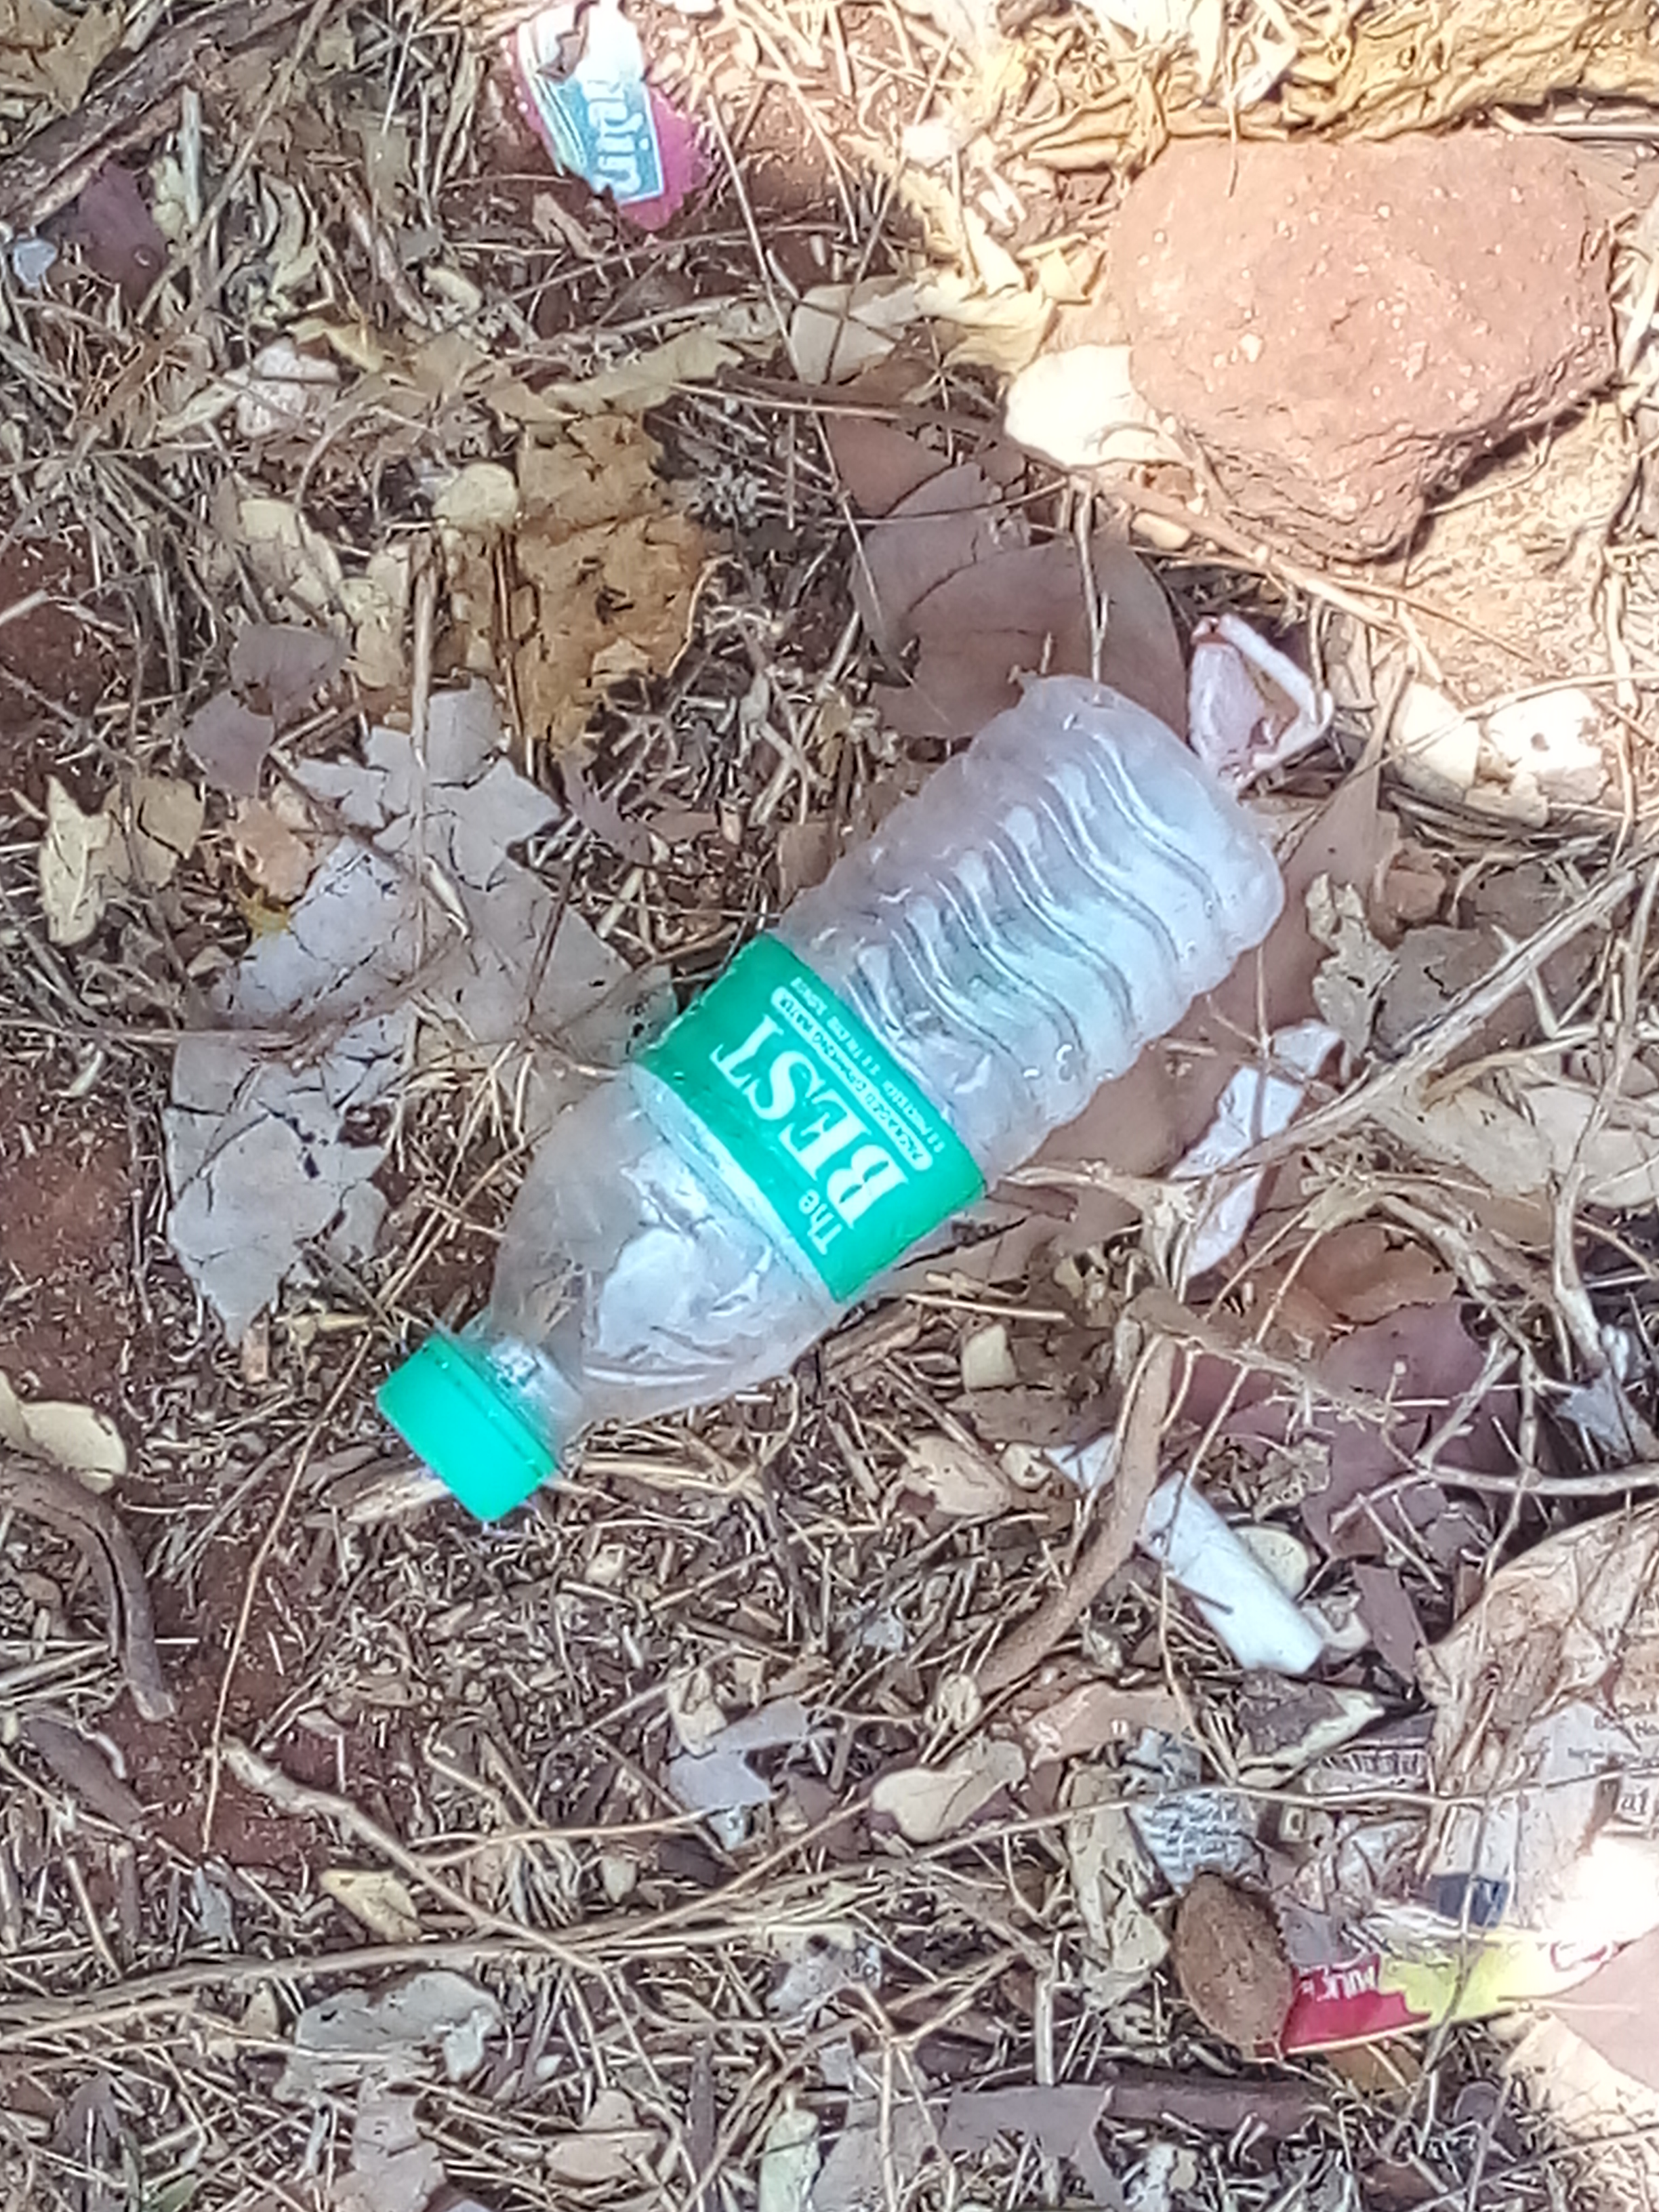bottle: (355, 676, 1309, 1517)
